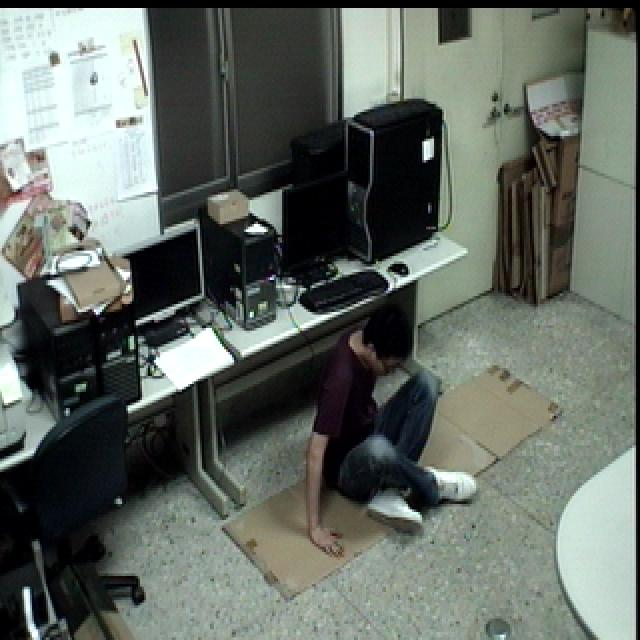sit: (296, 302, 490, 565)
